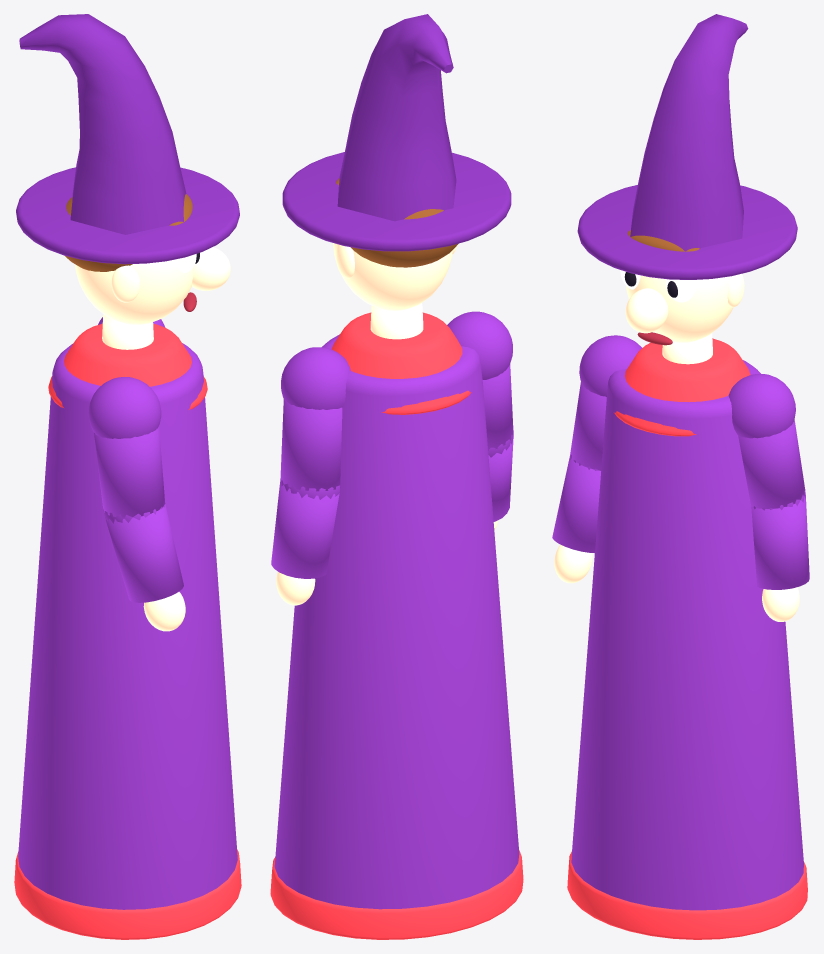
File: simon.glb
3 views of the same model, side by side, from view 1: azimuth 30°, elevation 25°; view 2: azimuth 150°, elevation 25°; view 3: azimuth 270°, elevation 25° (orthographic). The views are drawn at different scales.
Visible parts, largest first — view 1: Sm_Robe.001, Sm_Hutspitze.001, Sm_Krempe.001, Sm_Saum.001, Sm_Kragen.001, Sm_UAR.001, Sm_OAR.001, Sm_Kopf.001, Sm_ShKR.001, Sm_Hals.001, Sm_Nase.001, Sm_HandR.001 (+2 smaller); view 2: Sm_Robe.001, Sm_Hutspitze.001, Sm_Krempe.001, Sm_Saum.001, Sm_Kragen.001, Sm_OAL.001, Sm_UAL.001, Sm_Kopf.001, Sm_ShKL.001, Sm_ShKR.001, Sm_OAR.001, Sm_Haar.001 (+3 smaller); view 3: Sm_Robe.001, Sm_Hutspitze.001, Sm_Krempe.001, Sm_Saum.001, Sm_Kragen.001, Sm_UAL.001, Sm_OAL.001, Sm_Kopf.001, Sm_ShKL.001, Sm_UAR.001, Sm_OAR.001, Sm_ShKR.001 (+4 smaller).
Boxes of the visible parts, x1=… form: Sm_Robe.001: x1=18, y1=343, x2=237, y2=909; Sm_Hutspitze.001: x1=19, y1=14, x2=186, y2=234; Sm_Krempe.001: x1=16, y1=167, x2=239, y2=264; Sm_Saum.001: x1=14, y1=849, x2=241, y2=939; Sm_Kragen.001: x1=48, y1=323, x2=207, y2=409; Sm_UAR.001: x1=105, y1=504, x2=183, y2=602; Sm_OAR.001: x1=94, y1=426, x2=165, y2=517; Sm_Kopf.001: x1=75, y1=259, x2=195, y2=324; Sm_ShKR.001: x1=88, y1=377, x2=161, y2=438; Sm_Hals.001: x1=102, y1=314, x2=153, y2=349; Sm_Nase.001: x1=192, y1=247, x2=230, y2=290; Sm_HandR.001: x1=143, y1=592, x2=185, y2=631; Sm_Robe.001: x1=274, y1=334, x2=519, y2=909; Sm_Hutspitze.001: x1=337, y1=14, x2=456, y2=221; Sm_Krempe.001: x1=282, y1=152, x2=511, y2=251; Sm_Saum.001: x1=270, y1=850, x2=523, y2=939; Sm_Kragen.001: x1=331, y1=312, x2=471, y2=414; Sm_OAL.001: x1=280, y1=399, x2=342, y2=491; Sm_UAL.001: x1=271, y1=482, x2=339, y2=578; Sm_Kopf.001: x1=333, y1=243, x2=452, y2=310; Sm_ShKL.001: x1=281, y1=347, x2=350, y2=409; Sm_ShKR.001: x1=447, y1=311, x2=512, y2=379; Sm_OAR.001: x1=482, y1=364, x2=513, y2=450; Sm_Haar.001: x1=351, y1=209, x2=458, y2=267; Sm_Robe.001: x1=571, y1=360, x2=803, y2=910; Sm_Hutspitze.001: x1=630, y1=14, x2=748, y2=251; Sm_Krempe.001: x1=577, y1=185, x2=797, y2=279; Sm_Saum.001: x1=567, y1=851, x2=807, y2=939; Sm_Kragen.001: x1=614, y1=338, x2=750, y2=436; Sm_UAL.001: x1=751, y1=495, x2=809, y2=589; Sm_OAL.001: x1=738, y1=420, x2=805, y2=508; Sm_Kopf.001: x1=626, y1=275, x2=733, y2=342; Sm_ShKL.001: x1=728, y1=374, x2=795, y2=438; Sm_UAR.001: x1=552, y1=456, x2=600, y2=553; Sm_OAR.001: x1=570, y1=382, x2=606, y2=470; Sm_ShKR.001: x1=579, y1=335, x2=641, y2=396.
Bounding box in the file's own units: 0.5656 × 2.35 × 0.6322.
